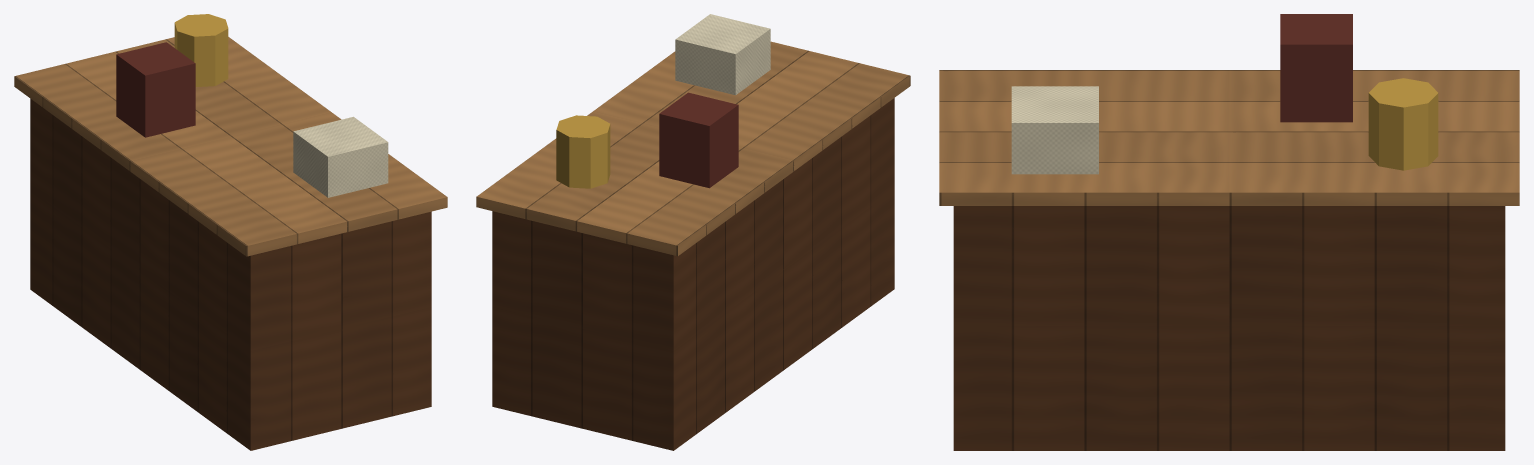
The model's file is lada_sklepowa.glb.
The picture shows the model from 3 angles, left to right: view 1: azimuth 30°, elevation 25°; view 2: azimuth 150°, elevation 25°; view 3: azimuth 270°, elevation 25°; orthographic projection. The views are drawn at different scales.
Parts seen in each view (by area): view 1: lada_sklepowa; view 2: lada_sklepowa; view 3: lada_sklepowa.
Boxes of the visible parts, left/top/right/bottom form: lada_sklepowa: left=14, top=14, right=447, bottom=450; lada_sklepowa: left=476, top=14, right=910, bottom=450; lada_sklepowa: left=939, top=14, right=1519, bottom=450.
Size of the model in its own units: 1 by 1.3 by 2.
5 materials, 3 textured.
